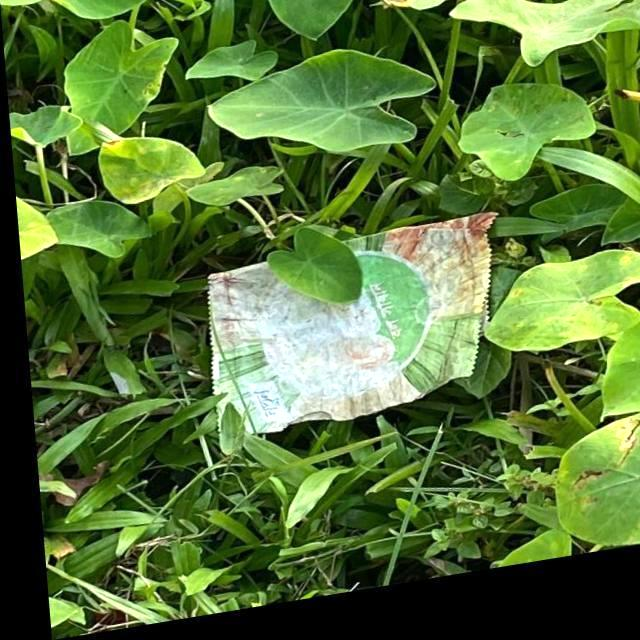packet: (193, 226, 503, 443)
